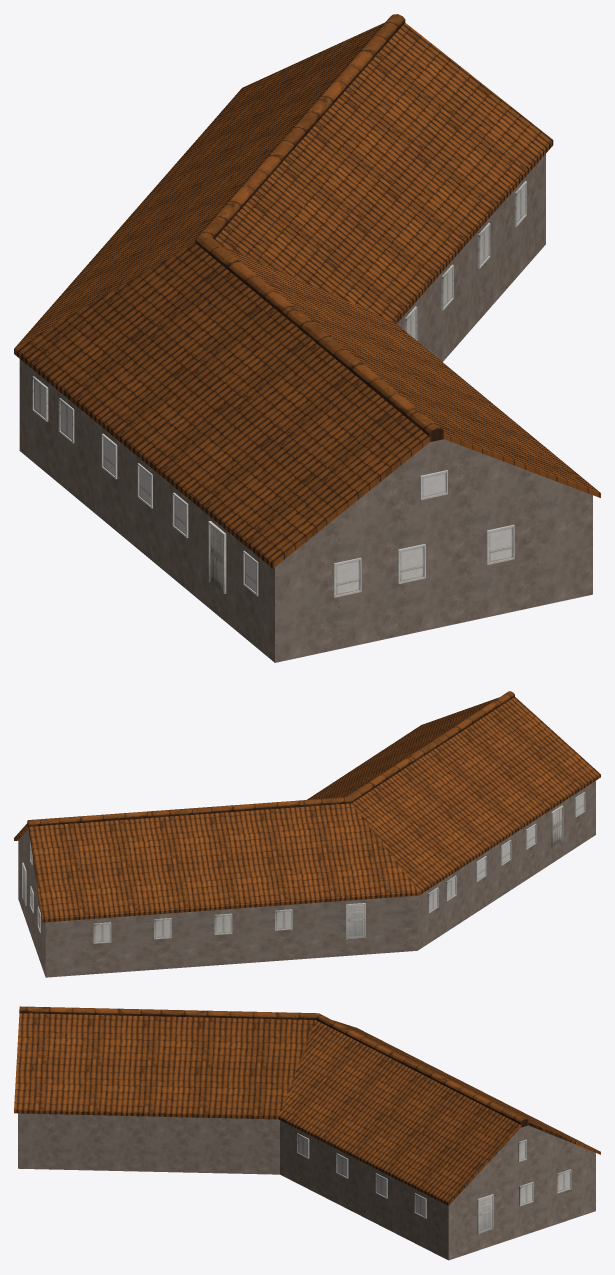
The model's file is Casa_13.fbx.
3 renders of one model, top to bottom at view 1: azimuth 30°, elevation 25°; view 2: azimuth 150°, elevation 25°; view 3: azimuth 270°, elevation 25°, orthographic. The views are drawn at different scales.
Parts seen in each view (by area): view 1: Casa_13; view 2: Casa_13; view 3: Casa_13.
Boxes of the visible parts, x1,y1,x2,y2 form: Casa_13: (14,14,600,662); Casa_13: (14,691,600,977); Casa_13: (14,1006,600,1260).
Bounding box in the file's own units: 22.61 × 6.81 × 30.69.
